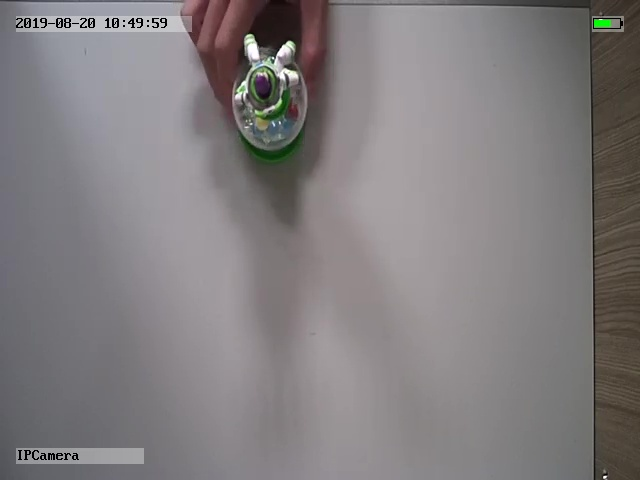buzz: (229, 32, 312, 162)
